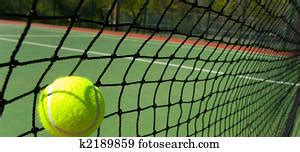tennis_ball: (38, 76, 105, 137)
